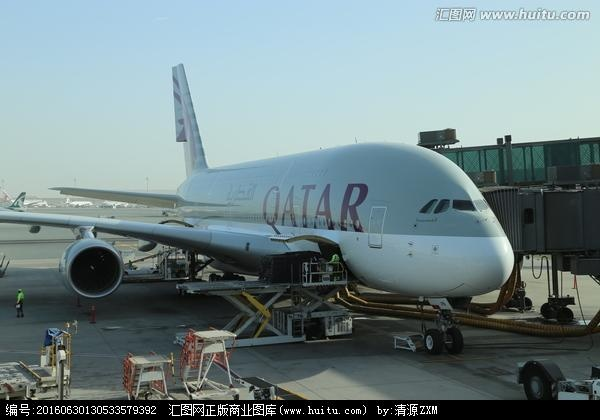airplane: (1, 60, 513, 349)
